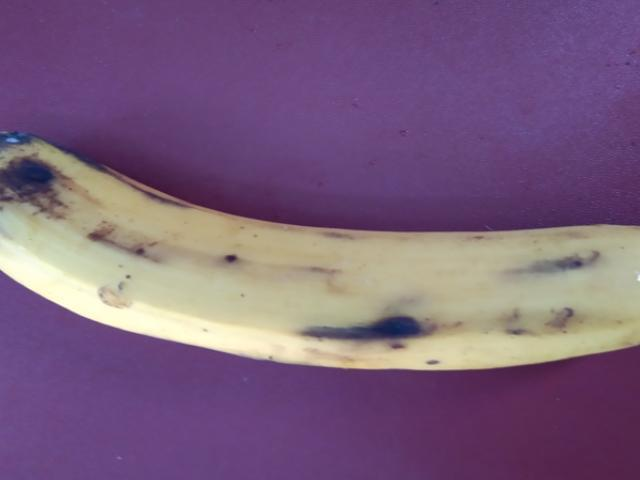ripe: (6, 113, 639, 402)
